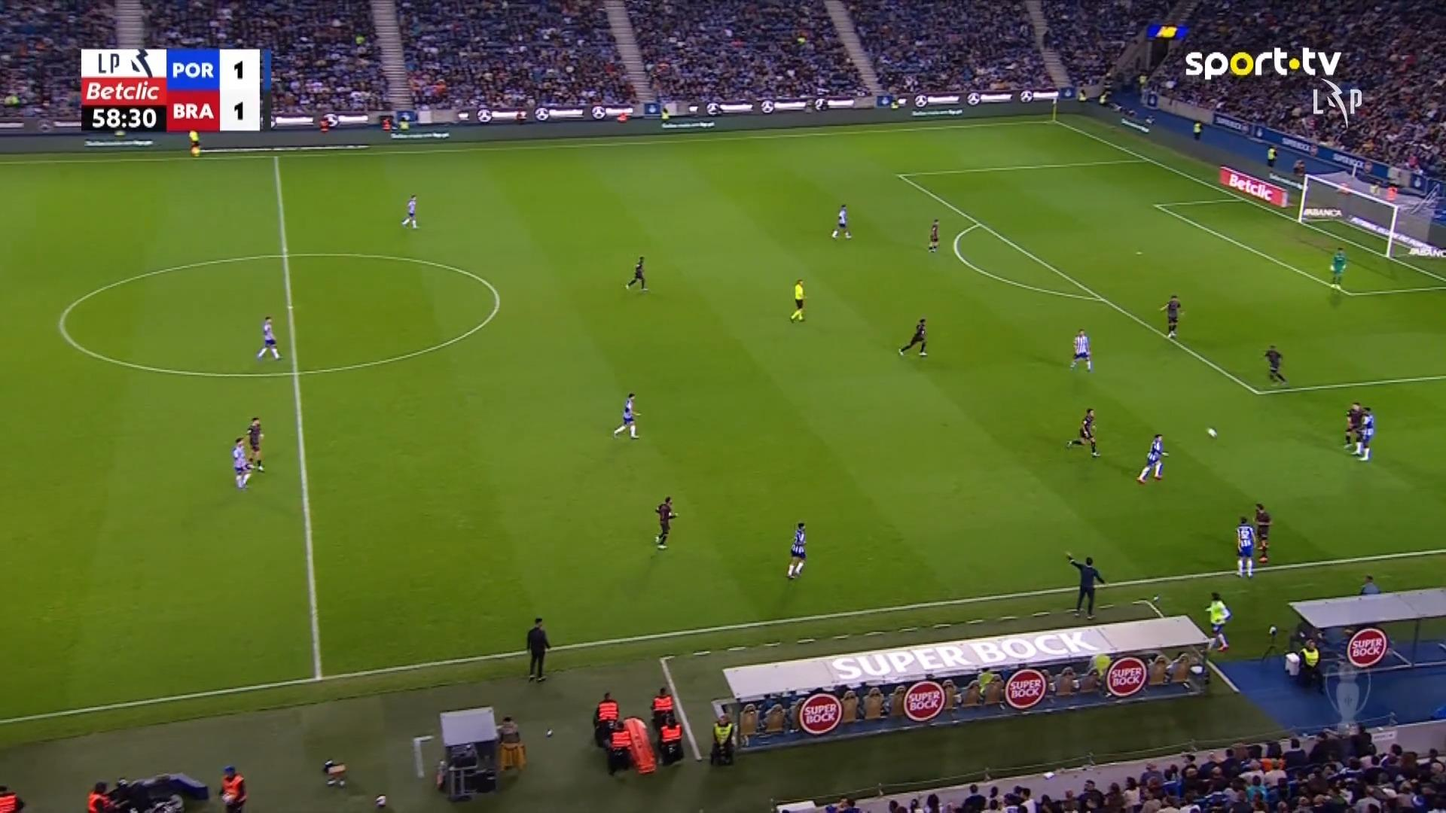ball: (1207, 427, 1216, 437)
goalkeeper: (1329, 245, 1347, 289)
player: (1066, 406, 1100, 458), (1136, 432, 1169, 483), (1234, 515, 1256, 578), (612, 392, 641, 439), (654, 495, 678, 549), (786, 521, 807, 579), (898, 317, 928, 357), (230, 437, 252, 489), (256, 315, 281, 360), (1253, 501, 1271, 562), (1354, 406, 1374, 460), (246, 416, 265, 471), (1069, 328, 1093, 371), (1159, 294, 1182, 338), (1263, 344, 1287, 384), (1343, 401, 1362, 450), (624, 255, 648, 291), (831, 203, 852, 239), (789, 279, 806, 322), (401, 193, 419, 228), (927, 218, 941, 252)
referee: (1065, 551, 1106, 620), (1204, 591, 1231, 651), (526, 617, 551, 681), (188, 128, 201, 156)
